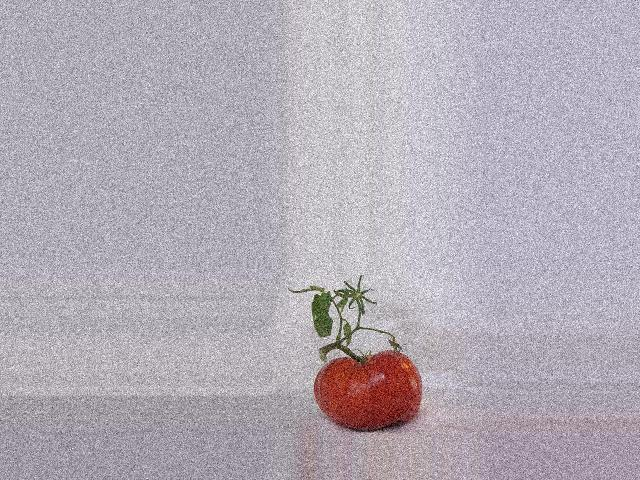tomato: (313, 350, 422, 431)
